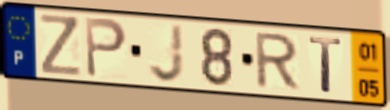8: (198, 26, 235, 89)
J: (147, 22, 187, 85)
P: (83, 15, 129, 80)
R: (254, 31, 303, 93)
T: (307, 35, 345, 96)
Z: (37, 12, 84, 79)
